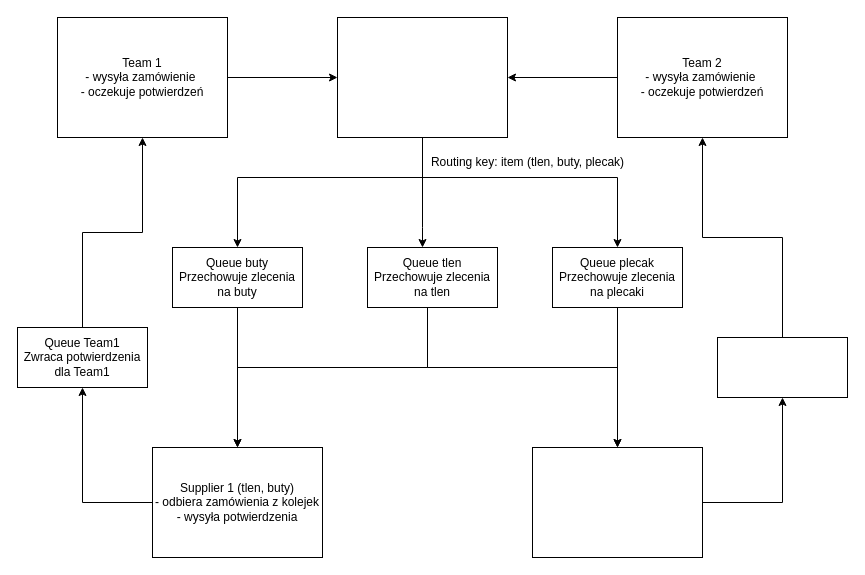
Image size: 865x575. Some labels were removed from this diagram. The centre of each missing label's shape, as x and y in pixels:
Exchange (Direct): the point at 422,77
Queue Team2 Zwraca potwierdzenia dla Team2: the point at 782,367
Supplier 2 (tlen, plecak) - odbiera zamówienia z kolejek - wysyła potwierdzenia: the point at 617,502
